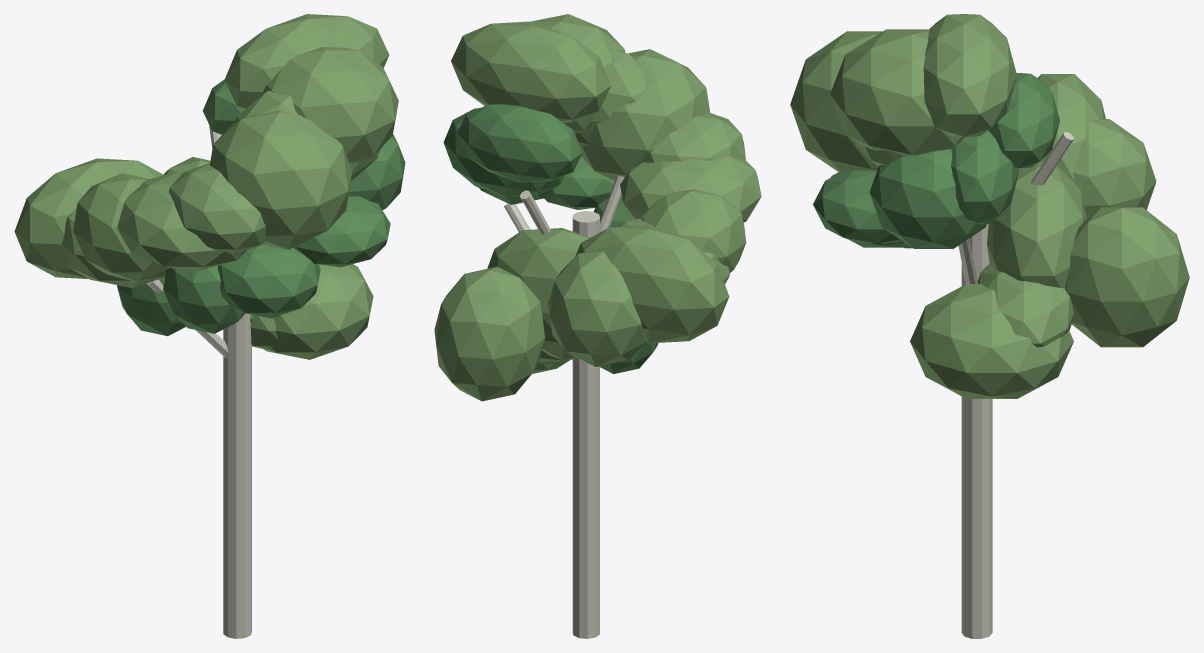
The model's file is norway-birch_lod0.glb.
The picture shows the model from 3 angles, left to right: view 1: azimuth 30°, elevation 25°; view 2: azimuth 150°, elevation 25°; view 3: azimuth 270°, elevation 25°; orthographic projection. The views are drawn at different scales.
Visible parts, largest first — view 1: RF_BirchCrown_07, RF_BirchCrown_10, RF_Birch_Trunk, RF_BirchCrown_05, RF_BirchCrown_13, RF_BirchCrown_14, RF_BirchCrown_04, RF_BirchShadow_01, RF_BirchCrown_12, RF_BirchCrown_09, RF_BirchShadow_04, RF_BirchShadow_06 (+6 smaller); view 2: RF_BirchCrown_05, RF_BirchCrown_03, RF_BirchCrown_14, RF_Birch_Trunk, RF_BirchCrown_06, RF_BirchCrown_07, RF_BirchShadow_05, RF_BirchCrown_04, RF_BirchCrown_09, RF_BirchCrown_11, RF_BirchCrown_12, RF_BirchShadow_02 (+6 smaller); view 3: RF_BirchCrown_03, RF_BirchCrown_13, RF_BirchCrown_10, RF_BirchCrown_05, RF_BirchCrown_11, RF_Birch_Trunk, RF_BirchShadow_07, RF_BirchCrown_07, RF_BirchCrown_06, RF_BirchShadow_02, RF_BirchShadow_05, RF_BirchCrown_08 (+3 smaller).
Part boxes in pixels (left/top/right/bottom): RF_BirchCrown_07: left=210, top=111, right=352, bottom=249; RF_BirchCrown_10: left=260, top=47, right=398, bottom=162; RF_Birch_Trunk: left=223, top=313, right=251, bottom=638; RF_BirchCrown_05: left=224, top=14, right=389, bottom=109; RF_BirchCrown_13: left=263, top=264, right=373, bottom=359; RF_BirchCrown_14: left=14, top=158, right=163, bottom=278; RF_BirchCrown_04: left=117, top=171, right=246, bottom=271; RF_BirchShadow_01: left=217, top=244, right=320, bottom=318; RF_BirchCrown_12: left=169, top=163, right=265, bottom=254; RF_BirchCrown_09: left=73, top=173, right=169, bottom=281; RF_BirchShadow_04: left=293, top=196, right=390, bottom=267; RF_BirchShadow_06: left=163, top=265, right=244, bottom=333; RF_BirchCrown_05: left=451, top=21, right=611, bottom=122; RF_BirchCrown_03: left=434, top=266, right=544, bottom=401; RF_BirchCrown_14: left=575, top=225, right=729, bottom=343; RF_Birch_Trunk: left=572, top=211, right=599, bottom=638; RF_BirchCrown_06: left=548, top=251, right=646, bottom=366; RF_BirchCrown_07: left=581, top=49, right=710, bottom=180; RF_BirchShadow_05: left=457, top=104, right=582, bottom=182; RF_BirchCrown_04: left=620, top=155, right=761, bottom=222; RF_BirchCrown_09: left=641, top=189, right=746, bottom=272; RF_BirchCrown_11: left=487, top=228, right=589, bottom=360; RF_BirchCrown_12: left=644, top=113, right=745, bottom=162; RF_BirchShadow_02: left=443, top=108, right=562, bottom=197; RF_BirchCrown_03: left=1065, top=207, right=1189, bottom=347; RF_BirchCrown_13: left=910, top=284, right=1073, bottom=398; RF_BirchCrown_10: left=830, top=29, right=964, bottom=156; RF_BirchCrown_05: left=923, top=14, right=1016, bottom=136; RF_BirchCrown_11: left=987, top=161, right=1086, bottom=288; RF_Birch_Trunk: left=961, top=224, right=992, bottom=638; RF_BirchShadow_07: left=869, top=149, right=986, bottom=248; RF_BirchCrown_07: left=790, top=31, right=882, bottom=172; RF_BirchCrown_06: left=1073, top=119, right=1156, bottom=217; RF_BirchShadow_02: left=951, top=130, right=1018, bottom=224; RF_BirchShadow_05: left=988, top=73, right=1059, bottom=168; RF_BirchCrown_08: left=978, top=264, right=1073, bottom=347.
Size of the model in its own units: 8.09 by 14.67 by 8.29.
